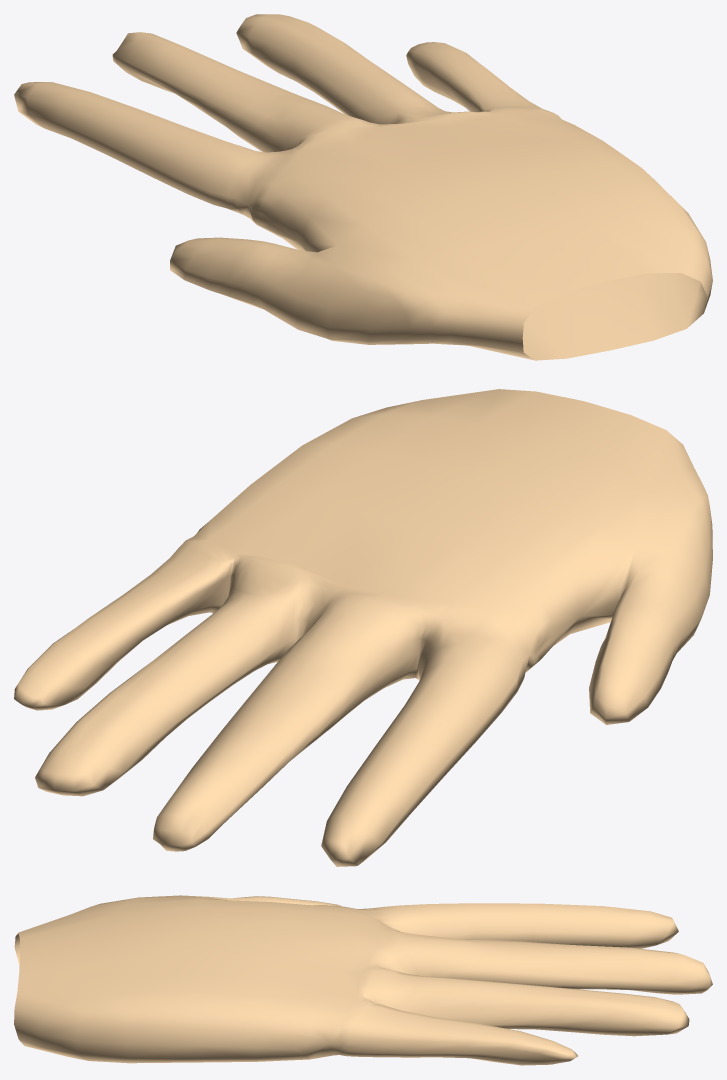
The model's file is handV2ColoredForSure.fbx.
3 renders of one model, top to bottom at view 1: azimuth 30°, elevation 25°; view 2: azimuth 150°, elevation 25°; view 3: azimuth 270°, elevation 25°, orthographic. The views are drawn at different scales.
Visible parts, largest first — view 1: Cube; view 2: Cube; view 3: Cube.
Part boxes in pixels (<box>): Cube: <box>14,14,712,360</box>; Cube: <box>14,389,712,866</box>; Cube: <box>14,895,712,1065</box>.
Size of the model in its own units: 655 by 157 by 1200.
